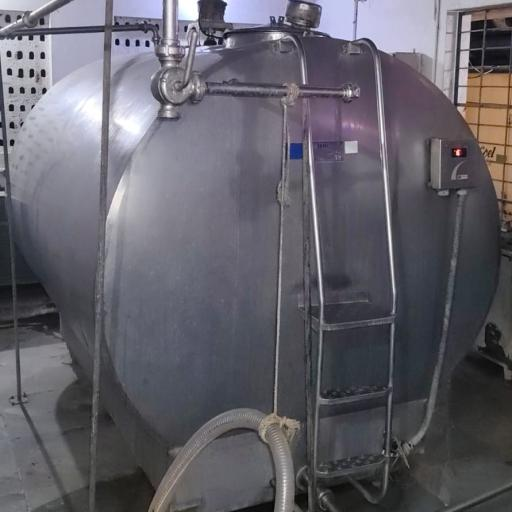silo: (7, 28, 501, 511)
